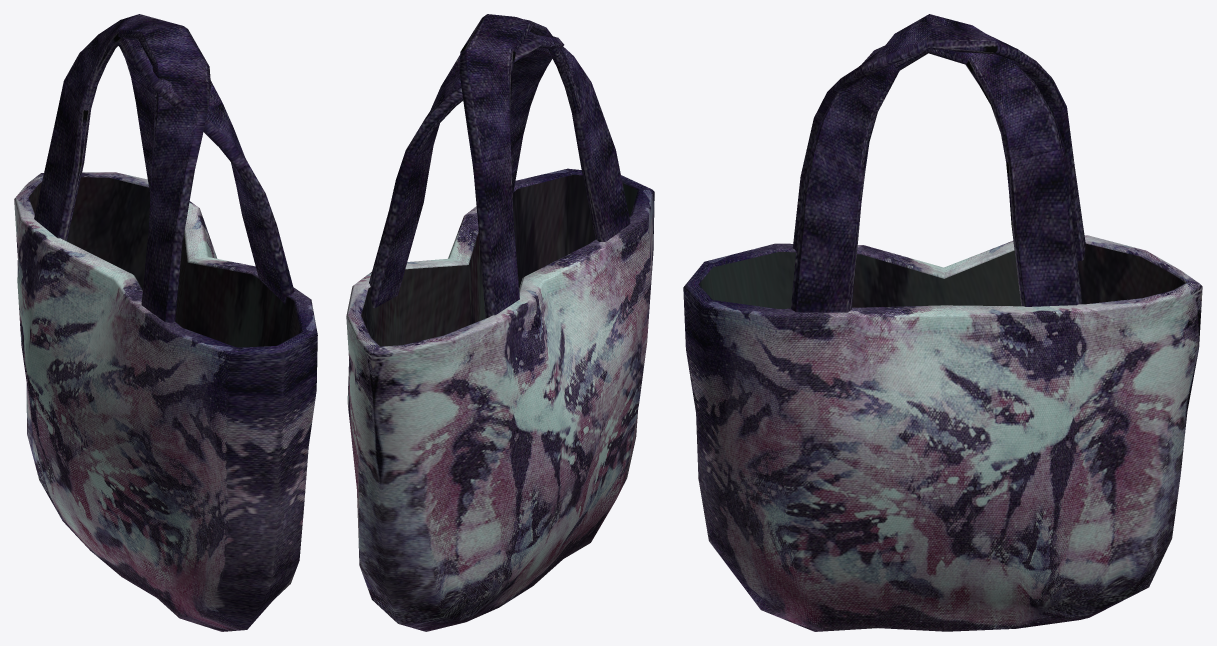
The model's file is batik_tote_bag_small.glb.
The picture shows the model from 3 angles, left to right: view 1: azimuth 30°, elevation 25°; view 2: azimuth 150°, elevation 25°; view 3: azimuth 270°, elevation 25°; orthographic projection. The views are drawn at different scales.
Visible parts, largest first — view 1: BatikToteBagSmall; view 2: BatikToteBagSmall; view 3: BatikToteBagSmall.
Boxes of the visible parts, x1,y1,x2,y2 form: BatikToteBagSmall: [14, 14, 317, 631]; BatikToteBagSmall: [346, 14, 654, 631]; BatikToteBagSmall: [683, 14, 1202, 631].
Size of what is drawn, in the model's own units: 19.61 by 54.11 by 42.14.
1 material, 1 textured.
